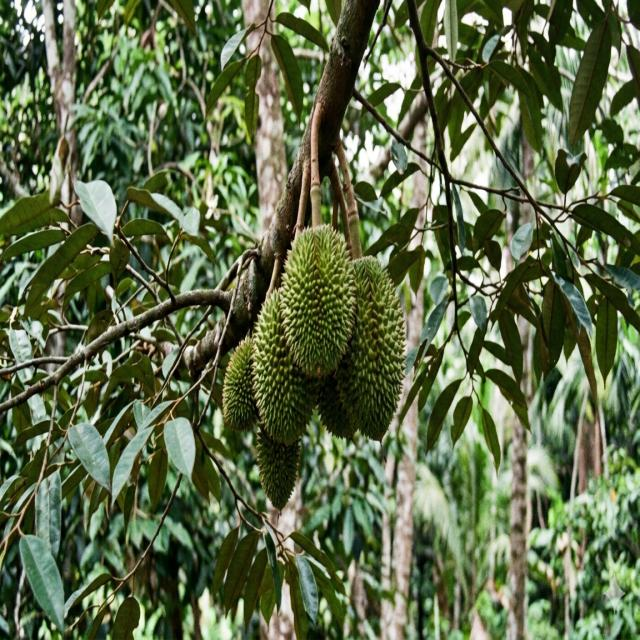immature: (336, 257, 404, 439), (281, 226, 353, 374), (251, 290, 319, 443), (257, 428, 300, 510), (223, 337, 258, 430), (318, 377, 355, 438)
